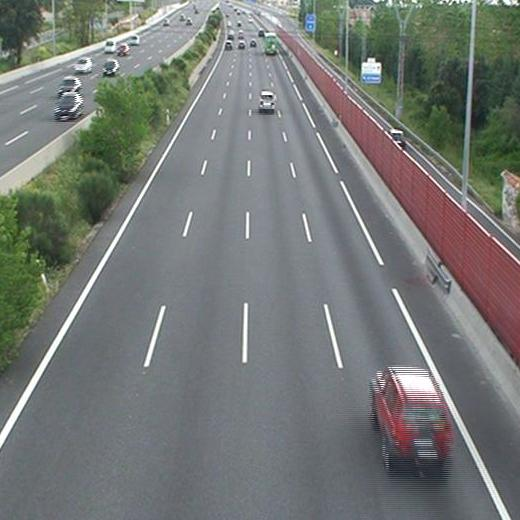bus: (265, 32, 277, 54)
car: (371, 366, 453, 466), (260, 91, 276, 110), (224, 41, 232, 50), (237, 41, 245, 50), (249, 39, 258, 47)
